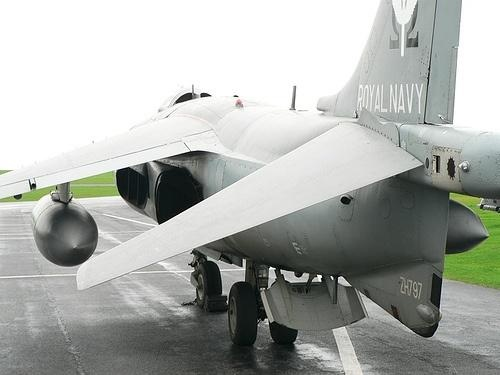aeroplane: (1, 4, 500, 375)
